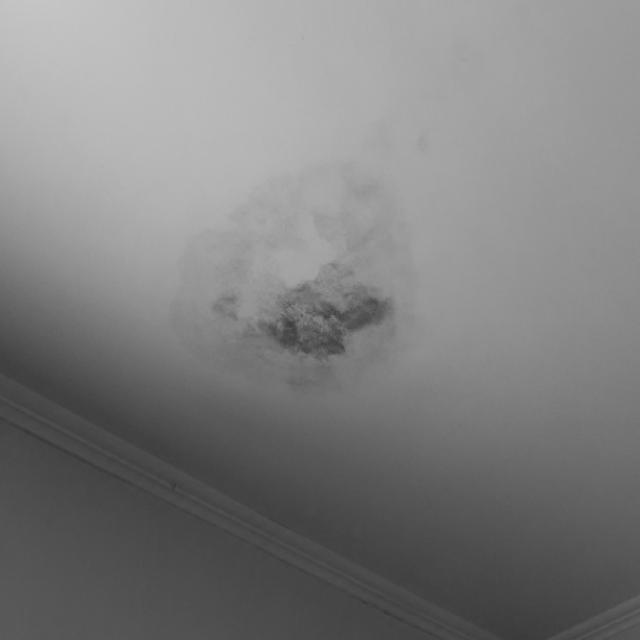stain marks: (164, 158, 430, 401)
